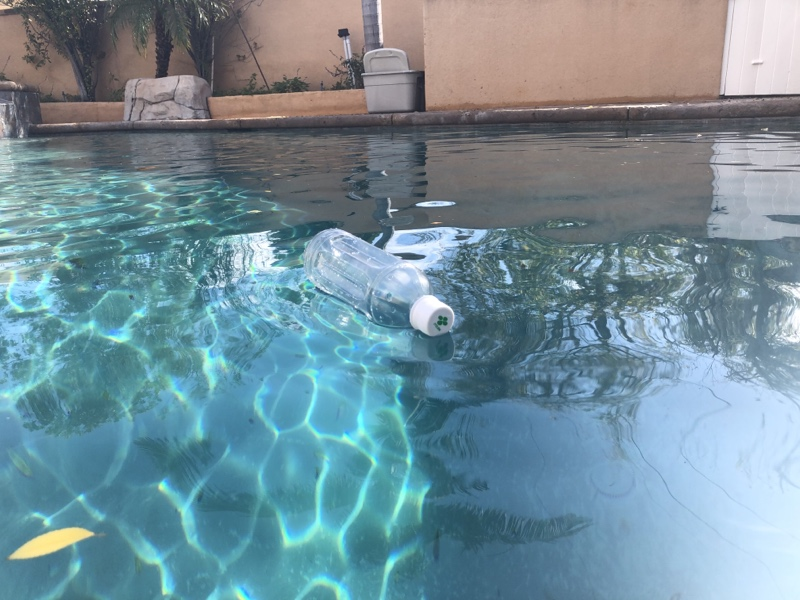Plastic Bottle: (299, 225, 458, 337)
